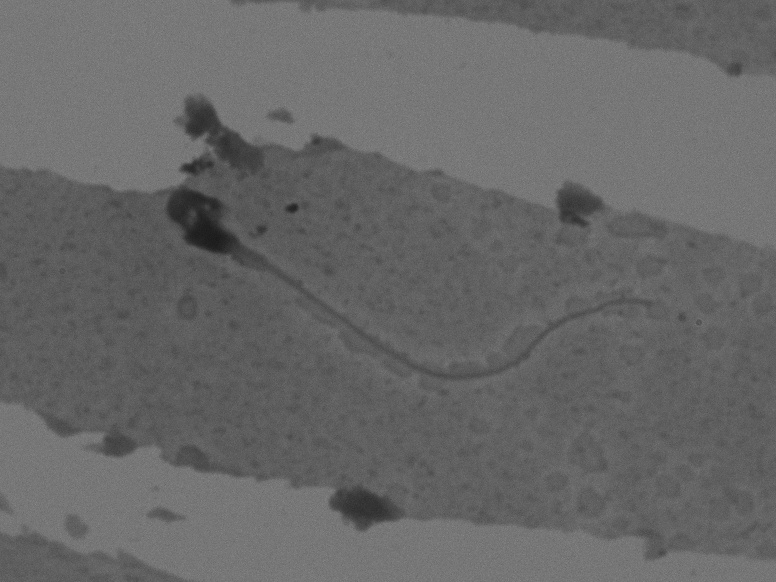Abnormal: (136, 183, 673, 410)
